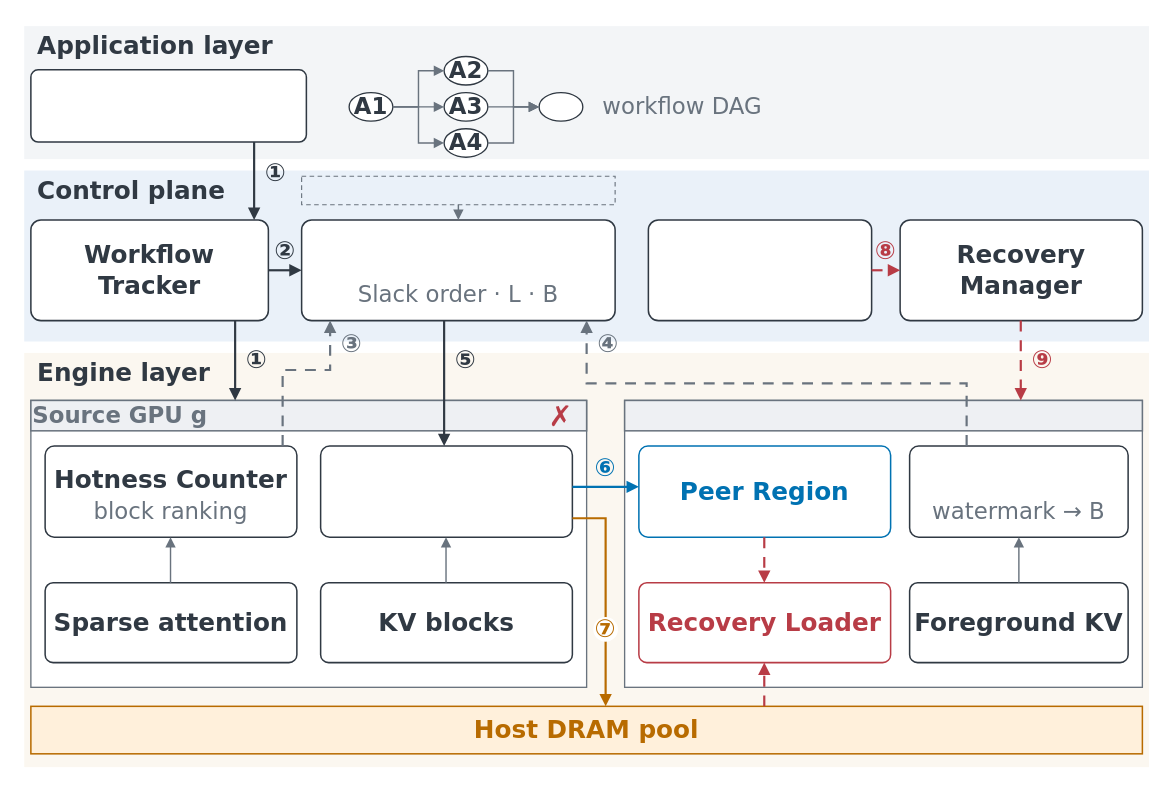
The diagram is 1174 pixels wide and 794 high, and some of its shapes have lost their labels. Here are the shapes that lost their labels. From the top down, the box of each, then its label:
(30, 69, 307, 142): Agent runtime
(538, 91, 583, 121): A5
(301, 175, 615, 205): Offline: block size, K, C
(300, 219, 615, 321): Placement Planner
(647, 219, 872, 321): Failure Detector
(623, 399, 1143, 431): Retry DP p(g)
(319, 445, 573, 538): Backup Agent
(908, 445, 1128, 538): Peer Budget
